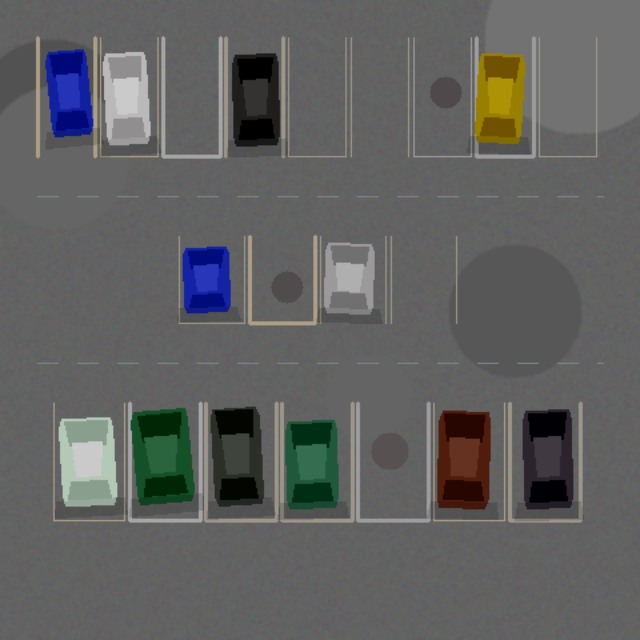space-empty: (357, 403, 428, 520), (413, 37, 471, 156), (163, 37, 220, 156), (288, 37, 345, 156), (351, 37, 408, 156), (539, 37, 596, 156), (249, 236, 315, 323), (391, 236, 456, 323)
space-occupied: (53, 403, 124, 520), (129, 403, 200, 520), (205, 403, 276, 520), (281, 403, 352, 520), (433, 403, 504, 520), (509, 403, 580, 520), (37, 37, 95, 156), (225, 37, 283, 156), (100, 37, 157, 156), (476, 37, 533, 156), (179, 236, 244, 323), (320, 236, 385, 323)
